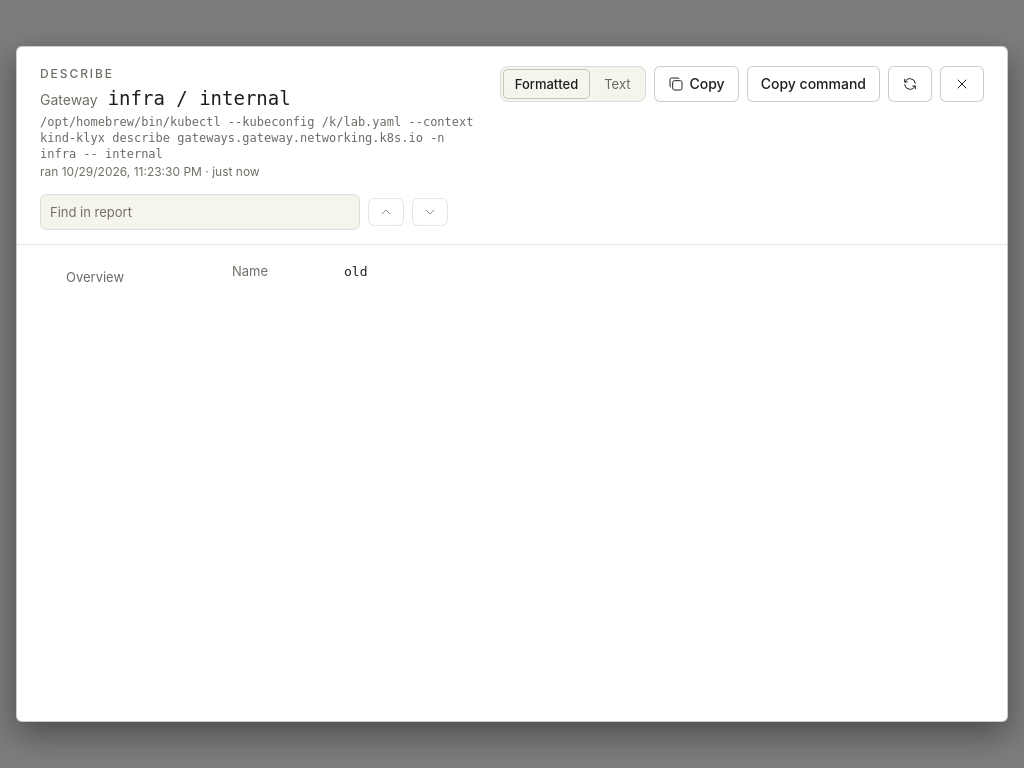
Test case: DescribePane › keeps the Text view byte for byte: Name:  old (review 1)
The width and height of the screenshot is (1024, 768).
Check: the element with test id "describe-formatted" is shown, box [232,263,368,279]
What coordinates should you click on to do the following:
click the button "Text"
I would click on:
 (617, 84)
Its box is [592,69,642,99].
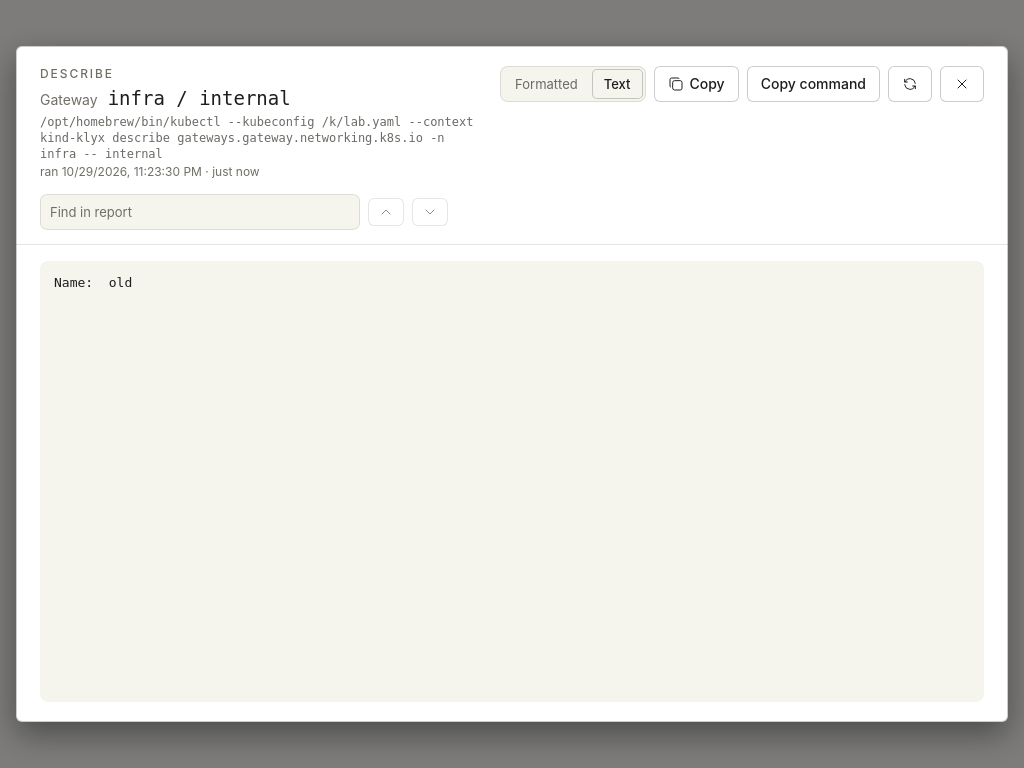
Check: the element showing "Name: old" is shown, box [54,275,132,290]
